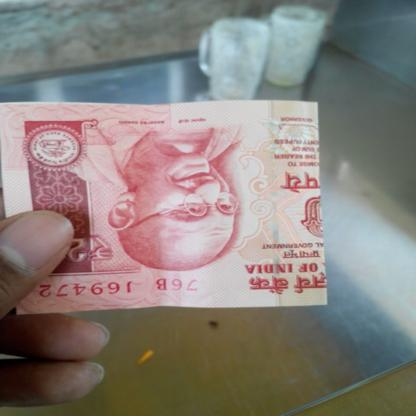Old20Front: (2, 106, 318, 302)
